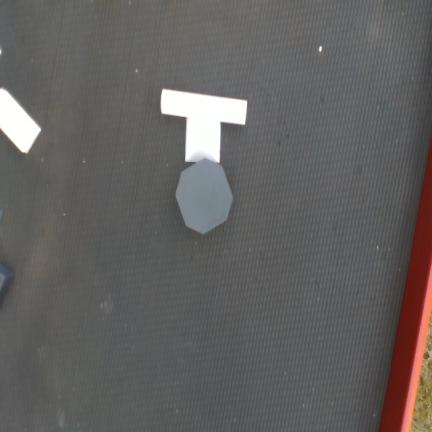Cilindro: (160, 88, 248, 126)
Paralelepipedo: (0, 87, 41, 154), (0, 261, 14, 306)
Piramide: (185, 116, 221, 163)
Prisma_hexagonal: (175, 158, 233, 235)
